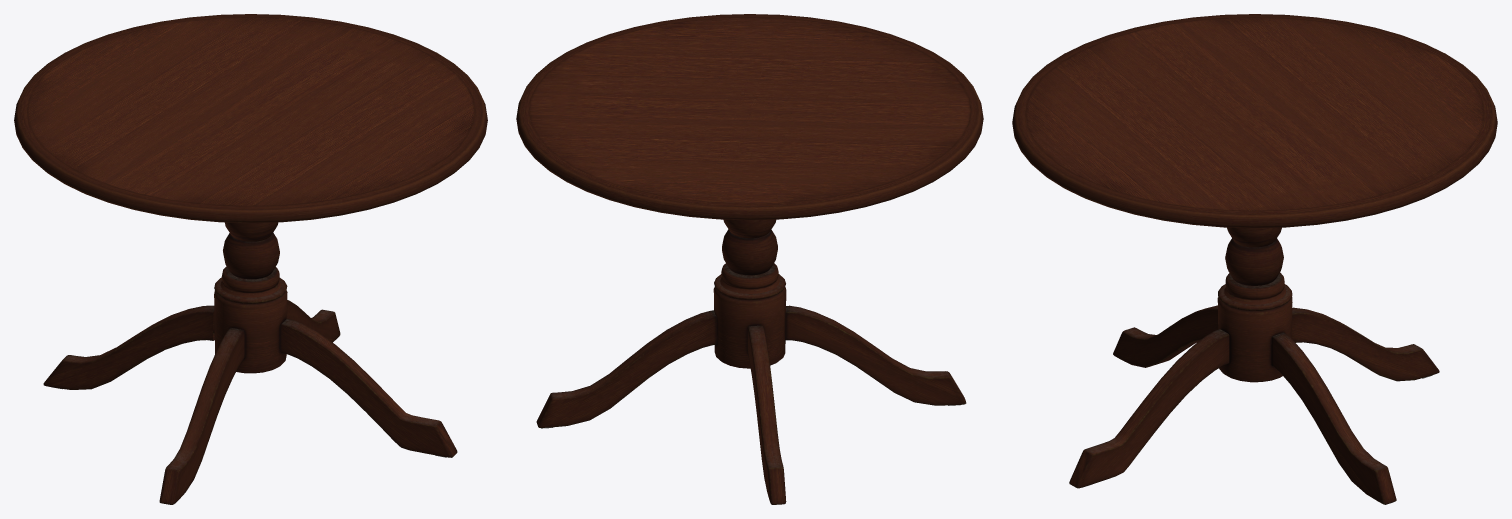
File: round_wooden_table_01_4k.fbx
3 renders of one model, left to right at view 1: azimuth 30°, elevation 25°; view 2: azimuth 150°, elevation 25°; view 3: azimuth 270°, elevation 25°, orthographic. The views are drawn at different scales.
Visible parts, largest first — view 1: round_wooden_table_01; view 2: round_wooden_table_01; view 3: round_wooden_table_01.
Boxes of the visible parts, x1,y1,x2,y2 form: round_wooden_table_01: (14,14,487,504); round_wooden_table_01: (516,14,983,504); round_wooden_table_01: (1012,14,1497,504).
Bounding box in the file's own units: 140 × 140 × 101.
